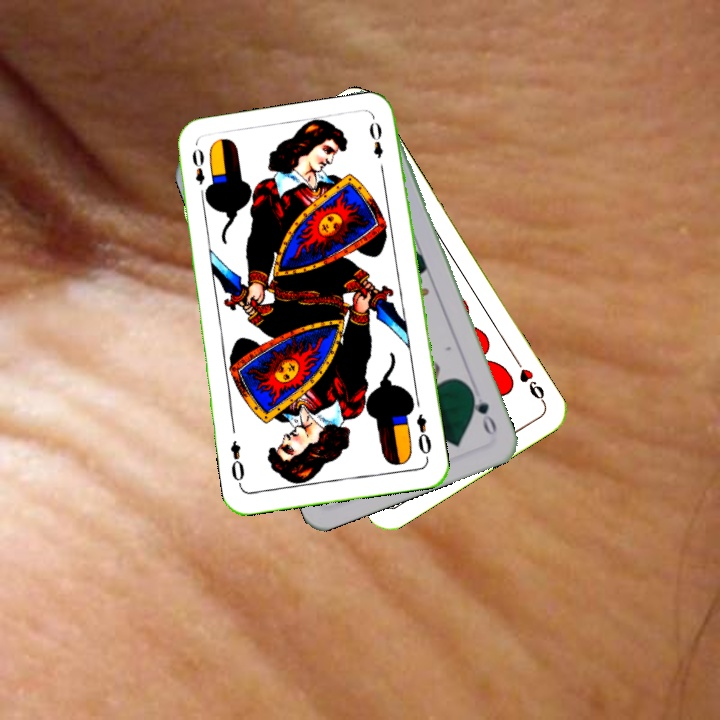EO: (188, 144, 211, 202), (412, 410, 434, 462)
GO: (466, 385, 500, 440)
H9: (510, 354, 549, 407)
